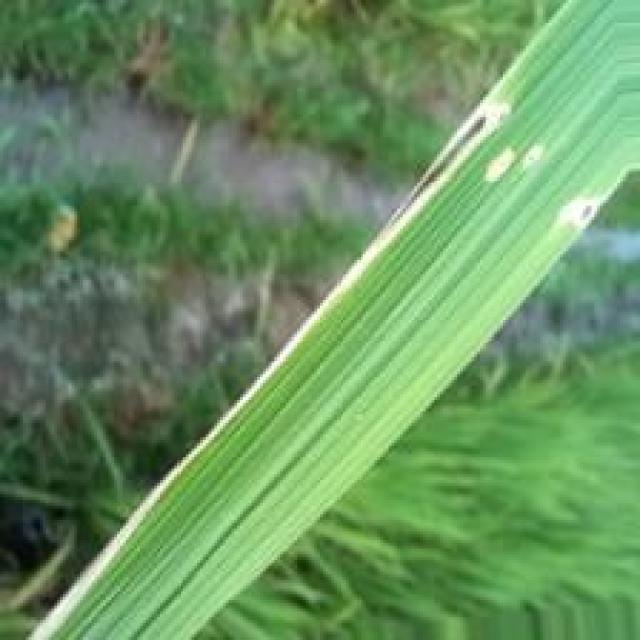Rice_Hispa: (19, 98, 512, 640), (556, 200, 603, 232), (484, 150, 519, 182)
